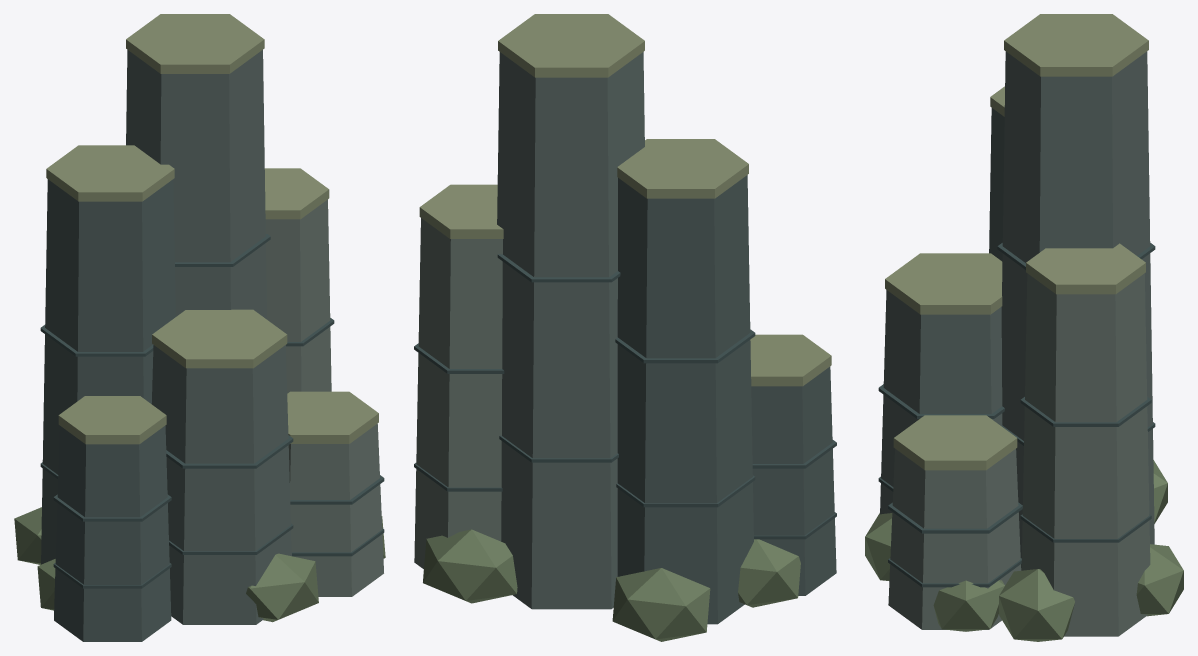
File: pack-basalt.glb
3 views of the same model, side by side, from view 1: azimuth 30°, elevation 25°; view 2: azimuth 150°, elevation 25°; view 3: azimuth 270°, elevation 25° (orthographic). The views are drawn at different scales.
Visible parts, largest first — view 1: SculptedModel; view 2: SculptedModel; view 3: SculptedModel.
Part boxes in pixels (<box>): SculptedModel: <box>14,14,385,641</box>; SculptedModel: <box>414,14,836,641</box>; SculptedModel: <box>865,14,1183,641</box>.
Bounding box in the file's own units: 2.12 × 3.13 × 1.66.
